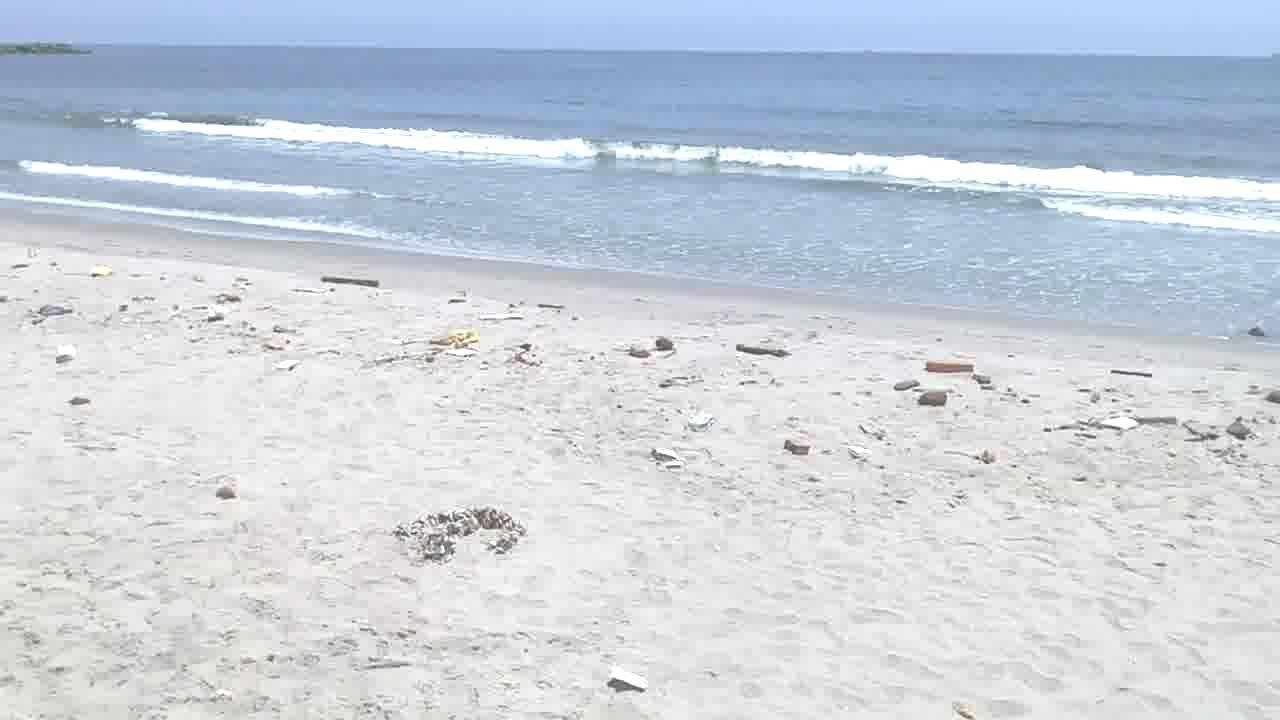obj: (405, 505, 520, 560), (1090, 412, 1182, 430), (430, 328, 490, 351), (611, 666, 652, 692), (735, 344, 800, 358), (320, 274, 383, 287), (924, 360, 976, 372), (786, 434, 811, 458), (216, 480, 242, 499), (656, 447, 678, 469), (70, 397, 94, 406), (637, 346, 649, 356)
sand/background: (0, 0, 1279, 370)
